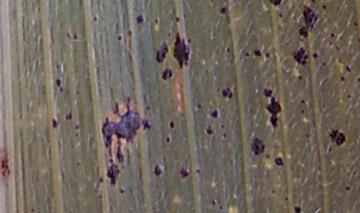tarspot: (100, 95, 142, 186), (171, 31, 192, 70), (297, 5, 319, 41), (264, 96, 281, 130), (154, 41, 170, 65), (290, 47, 309, 66), (326, 128, 346, 146), (250, 136, 265, 157), (219, 86, 234, 101), (54, 77, 65, 94), (161, 68, 173, 80), (261, 87, 274, 98), (153, 162, 163, 176), (179, 167, 189, 180), (141, 118, 151, 131), (273, 156, 284, 167), (50, 117, 59, 130), (267, 1, 283, 8), (135, 13, 144, 25), (205, 123, 213, 136), (210, 108, 219, 118), (252, 49, 262, 58), (223, 45, 232, 55), (64, 111, 73, 121), (343, 64, 352, 73), (107, 204, 116, 213), (65, 30, 72, 41), (293, 204, 301, 213), (219, 6, 227, 15), (263, 51, 271, 60), (168, 120, 175, 130), (311, 51, 319, 59), (332, 43, 340, 51), (115, 34, 122, 42), (218, 123, 226, 130), (174, 15, 181, 23), (74, 160, 81, 168), (127, 29, 133, 38), (72, 32, 78, 41), (343, 184, 350, 191), (339, 75, 346, 82), (329, 32, 336, 39), (320, 3, 327, 10), (297, 73, 303, 81), (351, 21, 359, 27), (74, 123, 80, 131), (98, 176, 104, 184), (92, 15, 98, 23), (165, 136, 171, 143), (195, 103, 202, 109), (222, 132, 228, 139), (321, 60, 327, 67), (276, 12, 283, 18), (73, 132, 80, 138), (336, 57, 342, 64), (326, 40, 332, 47), (334, 5, 341, 11), (29, 206, 35, 213), (97, 193, 103, 200), (119, 187, 124, 195), (352, 169, 357, 177), (153, 17, 158, 25), (299, 98, 305, 104), (244, 51, 250, 57), (211, 198, 216, 205), (299, 108, 304, 115), (327, 146, 332, 153), (166, 30, 171, 37), (182, 12, 187, 19), (145, 105, 150, 112), (55, 63, 60, 70), (215, 86, 220, 93), (218, 204, 224, 209), (304, 132, 309, 138), (346, 93, 351, 99), (269, 188, 274, 194), (356, 76, 360, 83), (74, 91, 81, 95), (204, 67, 208, 74), (196, 168, 200, 174), (284, 195, 288, 201), (356, 36, 360, 42), (310, 1, 316, 5)
